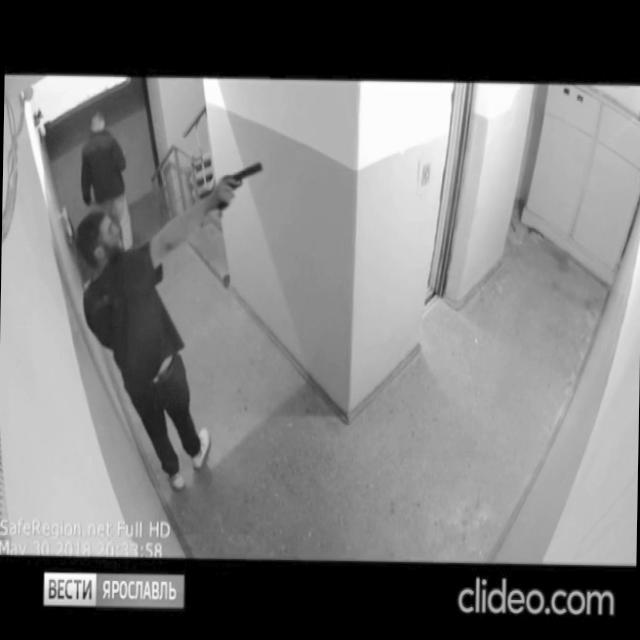gun: (216, 160, 266, 213)
person: (78, 110, 138, 264)
person with a gun: (71, 158, 266, 496)
